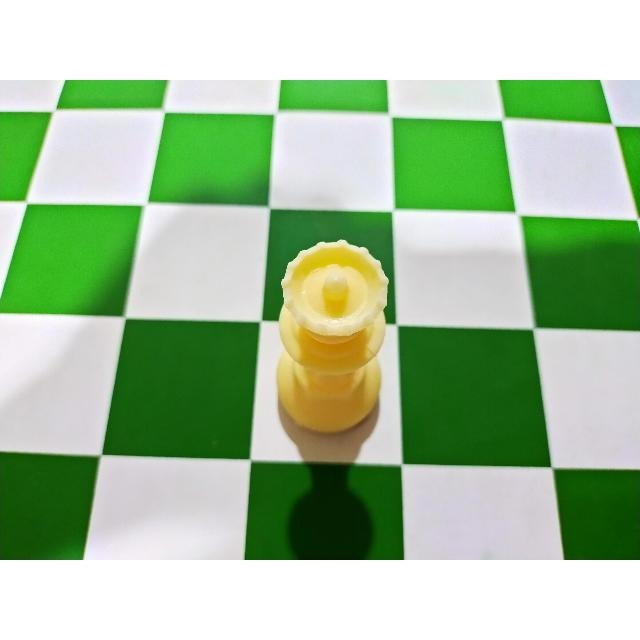white-queen: (267, 230, 392, 437)
